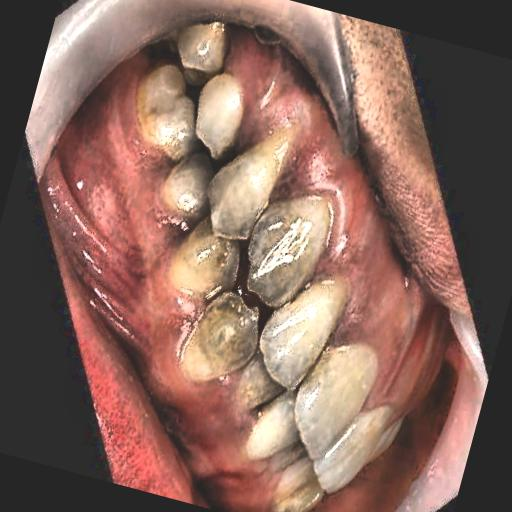Calculus: (88, 90, 420, 476)
